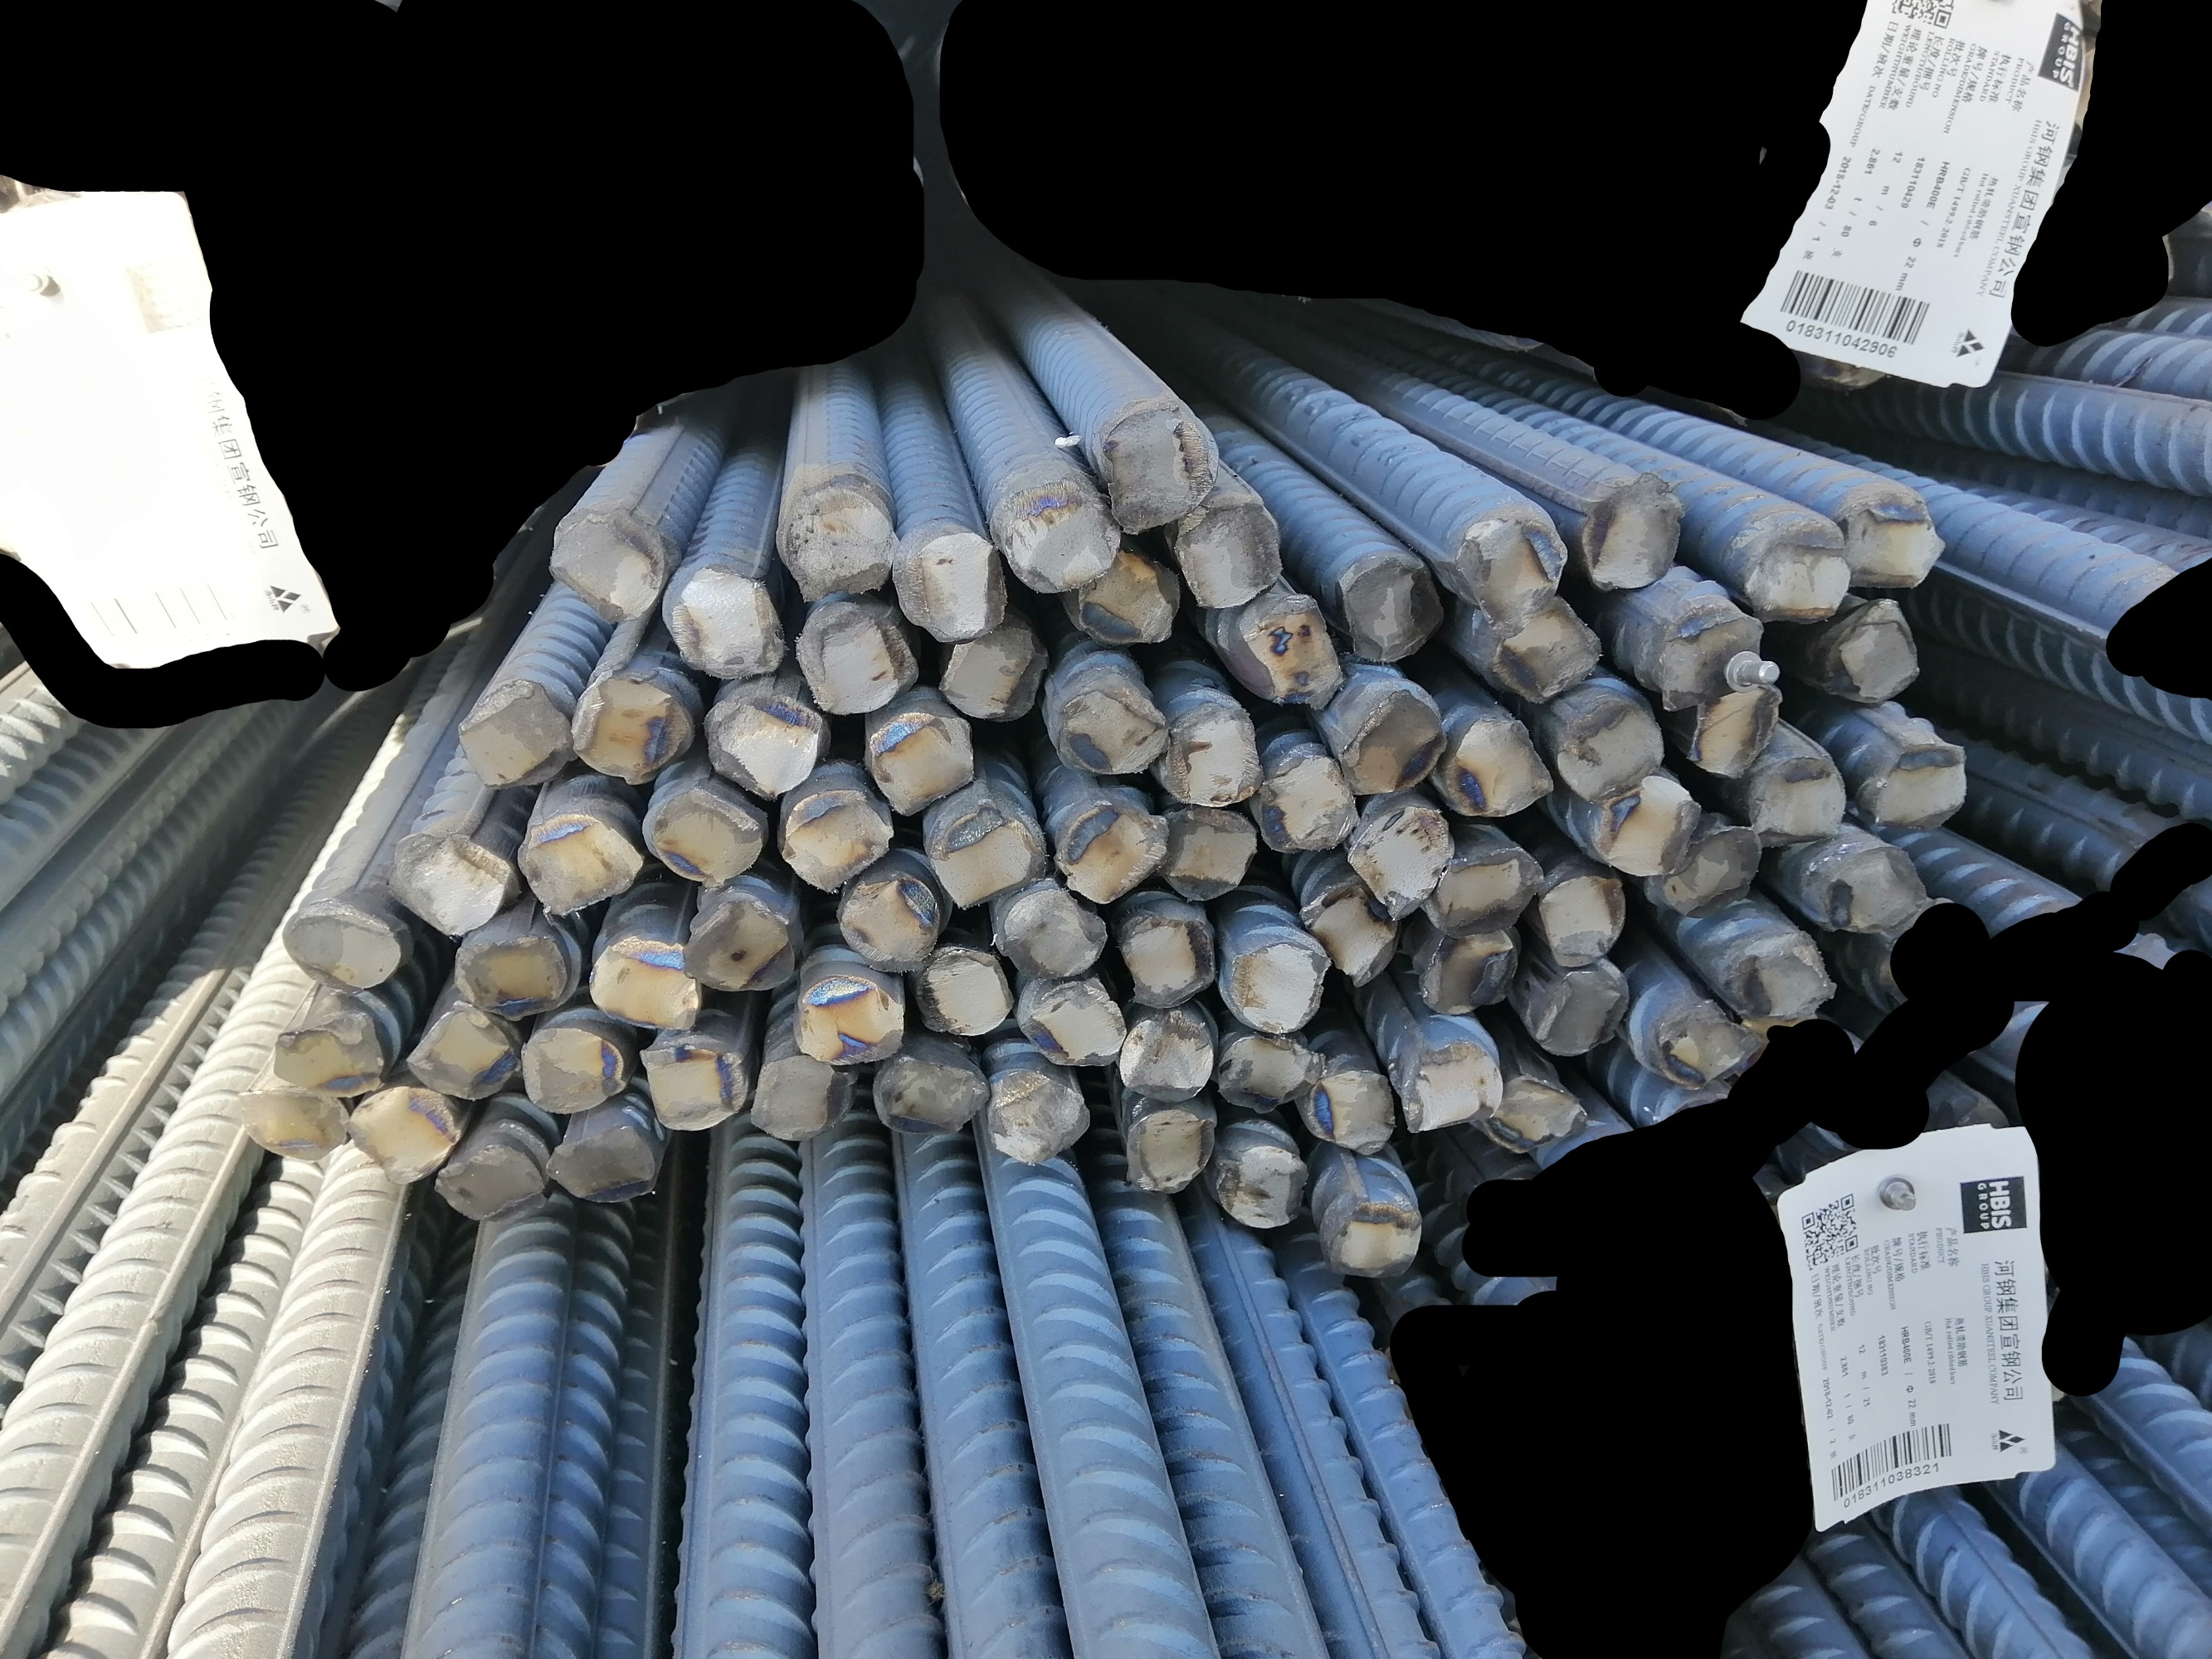rebar: (1100, 408, 1225, 538), (563, 666, 699, 786), (793, 596, 922, 721), (657, 558, 788, 680), (547, 502, 669, 626), (777, 479, 899, 603), (1579, 467, 1700, 592), (450, 678, 575, 795), (641, 779, 769, 894), (776, 777, 894, 899), (385, 831, 514, 943), (516, 807, 645, 918), (701, 683, 821, 800), (892, 526, 1008, 643), (1489, 592, 1609, 704), (1459, 514, 1572, 631), (1347, 803, 1459, 922), (582, 925, 699, 1037), (1178, 495, 1288, 613), (981, 1056, 1093, 1169), (1335, 551, 1447, 664), (1551, 695, 1666, 805), (680, 887, 800, 992), (865, 709, 976, 821), (349, 1080, 460, 1190), (933, 805, 1044, 915), (1747, 516, 1856, 627), (1426, 842, 1550, 939), (1058, 798, 1170, 906), (1004, 497, 1123, 598), (934, 622, 1055, 721), (1243, 598, 1347, 711), (1342, 687, 1447, 800), (401, 1004, 518, 1105), (1659, 605, 1766, 714), (281, 904, 404, 997), (1161, 702, 1269, 807), (1440, 718, 1555, 816), (866, 1047, 992, 1136), (1401, 1035, 1506, 1140), (1839, 490, 1945, 592), (1726, 925, 1837, 1023), (514, 1021, 628, 1117), (1156, 802, 1260, 904), (835, 877, 941, 978), (997, 884, 1105, 983), (1593, 779, 1701, 878), (1056, 680, 1166, 777), (1815, 842, 1930, 934), (1227, 936, 1330, 1039), (1014, 974, 1126, 1068), (455, 929, 570, 1019), (1525, 958, 1632, 1056), (913, 939, 1016, 1039), (1250, 749, 1347, 854), (1659, 824, 1764, 922), (795, 972, 901, 1068), (431, 1141, 549, 1227), (539, 1126, 659, 1209), (640, 1039, 746, 1133), (1117, 913, 1218, 1011), (230, 1082, 350, 1164), (1689, 681, 1785, 782), (751, 1054, 854, 1148), (1419, 922, 1522, 1016), (272, 1014, 385, 1100), (1300, 880, 1393, 985), (1077, 556, 1180, 648), (1748, 753, 1846, 849), (1837, 598, 1923, 706), (1117, 1014, 1215, 1107), (1220, 1032, 1325, 1117), (1485, 1072, 1590, 1157), (1215, 1140, 1309, 1234), (1123, 1100, 1215, 1195), (1870, 739, 1968, 829), (1661, 995, 1750, 1093), (1537, 873, 1626, 969), (1327, 1194, 1422, 1281), (1307, 1068, 1398, 1157)
